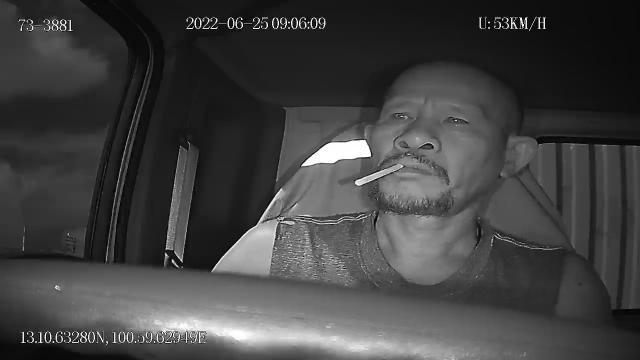SafeDriving: (434, 105, 478, 134), (382, 102, 419, 129)
Smoking: (353, 163, 403, 185)
